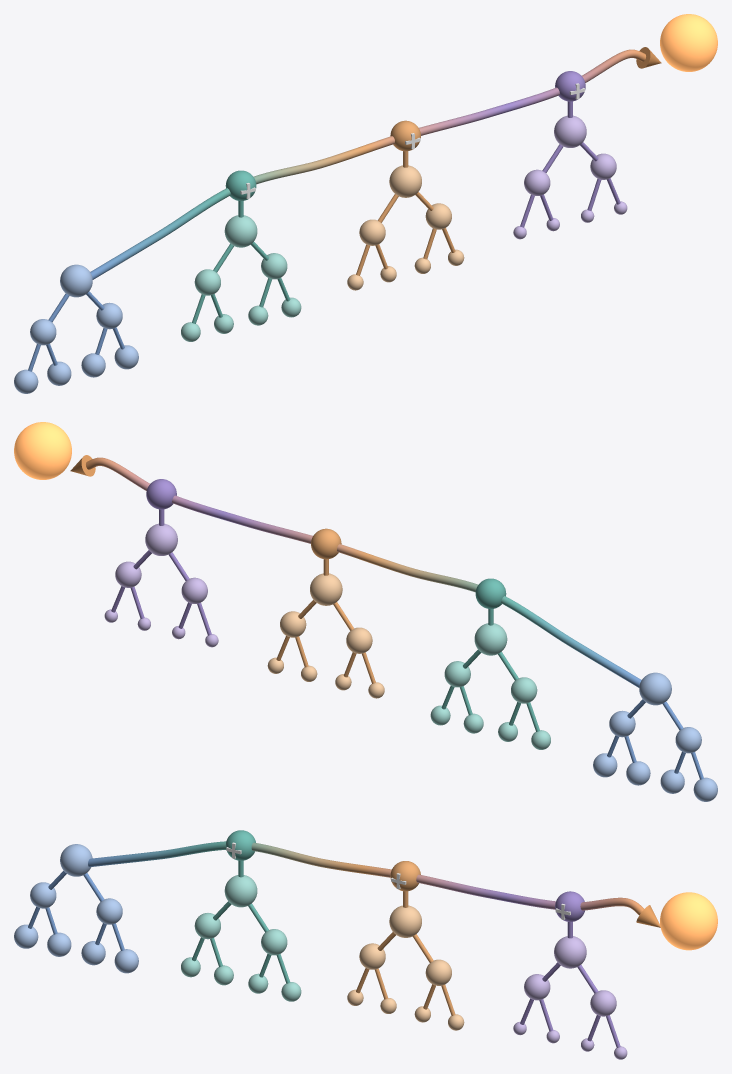
Rendered from gradient-boosting-regressor-3d.glb.
3 renders of one model, top to bottom at view 1: azimuth 30°, elevation 25°; view 2: azimuth 150°, elevation 25°; view 3: azimuth 330°, elevation 25°, orthographic.
Visible parts, largest first — view 1: additive_path, root (×4), final_prediction, sum_sphere (×3); view 2: additive_path, root (×4), final_prediction, sum_sphere (×3); view 3: additive_path, root (×4), final_prediction, split_1 (×4), split_0 (×4), sum_sphere (×3), leaf_1, leaf_3, leaf_2, leaf_0.
Boxes of the visible parts, x1,y1,x2,y2 form: additive_path: (90, 49, 645, 279); root (×4): (60, 115, 586, 297); final_prediction: (660, 14, 717, 71); sum_sphere (×3): (225, 71, 585, 200); additive_path: (86, 457, 641, 687); root (×4): (145, 523, 671, 705); final_prediction: (14, 422, 71, 479); sum_sphere (×3): (146, 479, 506, 608); additive_path: (88, 841, 643, 915); root (×4): (60, 844, 586, 968); final_prediction: (660, 892, 717, 950); split_1 (×4): (96, 898, 616, 1016); split_0 (×4): (30, 882, 550, 1000); sum_sphere (×3): (225, 830, 584, 921); leaf_1: (47, 932, 71, 956); leaf_3: (114, 949, 138, 973); leaf_2: (81, 941, 105, 965); leaf_0: (14, 924, 38, 948).
Size of the model in its own units: 0.6109 by 0.1792 by 0.044.
